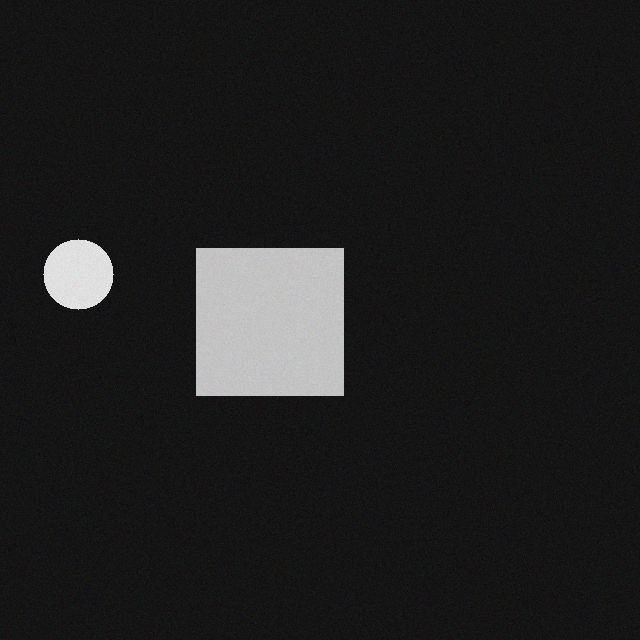circle: (58, 250, 128, 320)
square: (211, 259, 358, 406)
